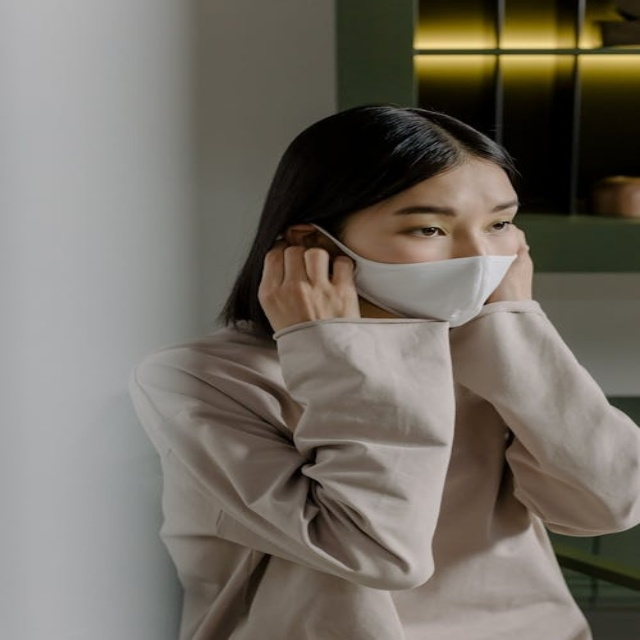Mascara: (307, 225, 519, 325)
Sin_gafas: (402, 225, 448, 238), (486, 219, 515, 233)
Sin_guantes: (242, 239, 366, 336)
